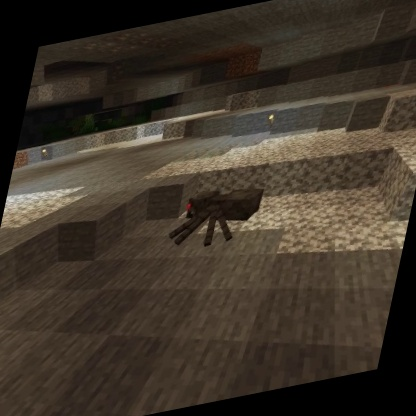spider: (160, 175, 270, 258)
